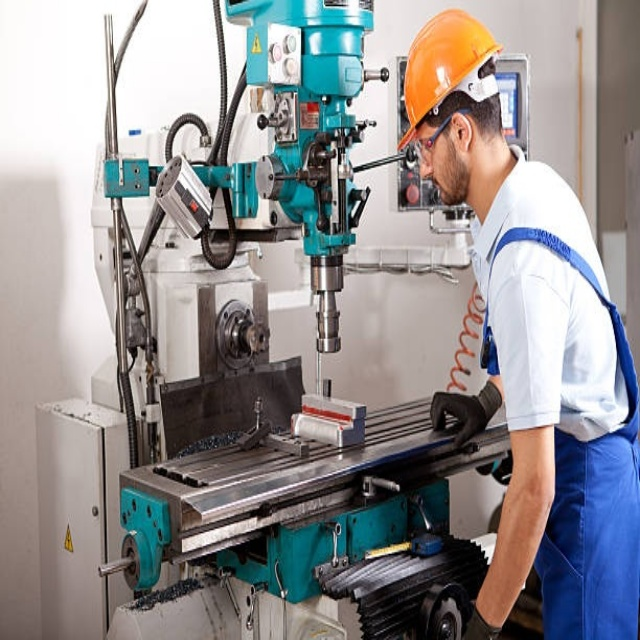Gafas: (413, 110, 467, 168)
Guantes: (429, 378, 500, 448), (460, 599, 504, 640)
Sin_mascara: (422, 176, 454, 204)
